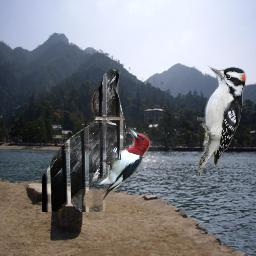Crow: (42, 69, 126, 212)
Woodpecker: (197, 62, 251, 177), (93, 126, 154, 203)
